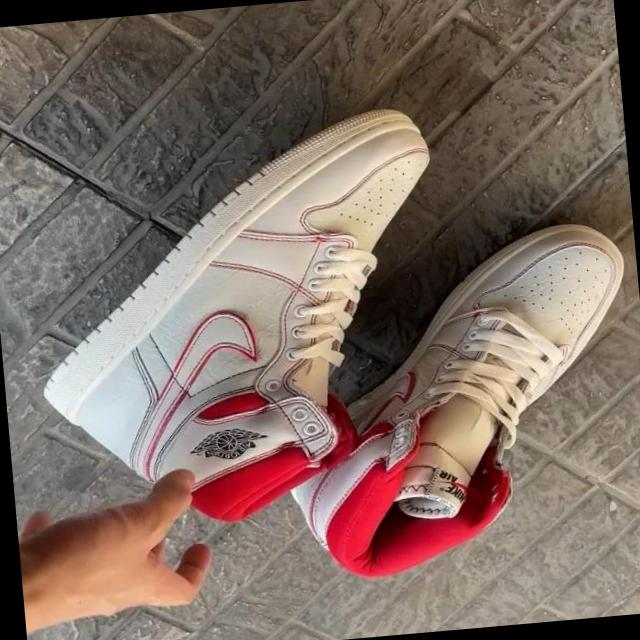nike_fake_jordan: (18, 101, 460, 538), (255, 214, 640, 579)
